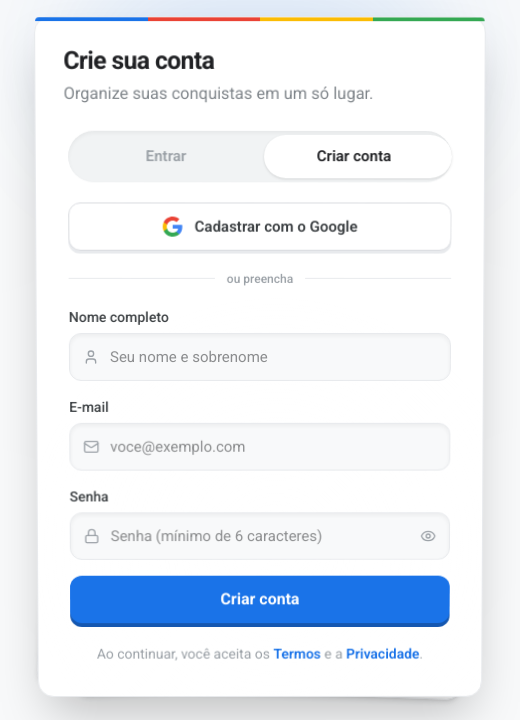
AuthScreen › signs up and shows the confirm-email screen when the password is not leaked
Type "  Ana   Souza " into the field labelled "Nome completo". click: (260, 357)
box: [69,333,451,381]
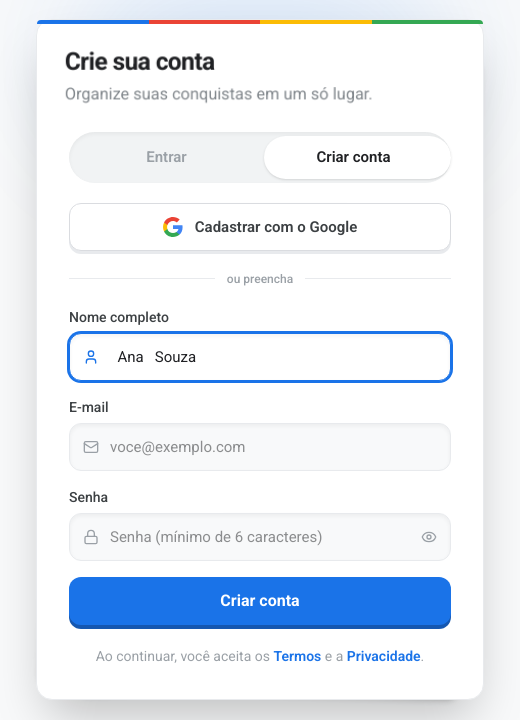
Type "nova@example.com" into the field labelled "E-mail". click: (260, 447)
box: [69,423,451,471]
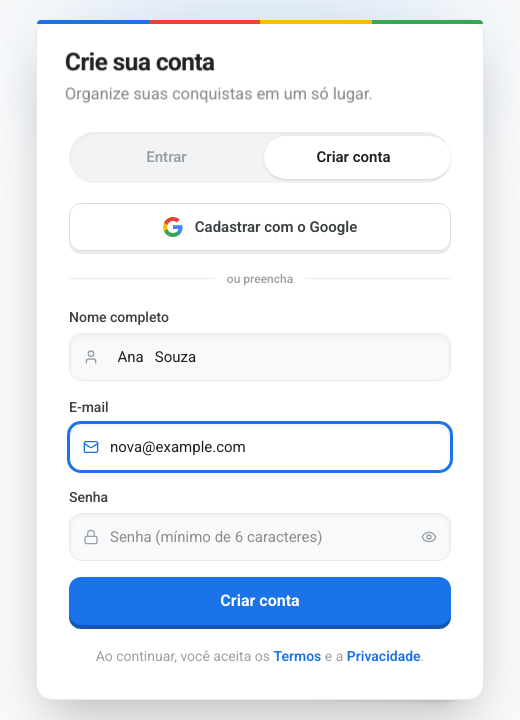
Type "senhaSegura1" into the password field labelled "Senha". click: (260, 537)
box: [69,513,451,561]
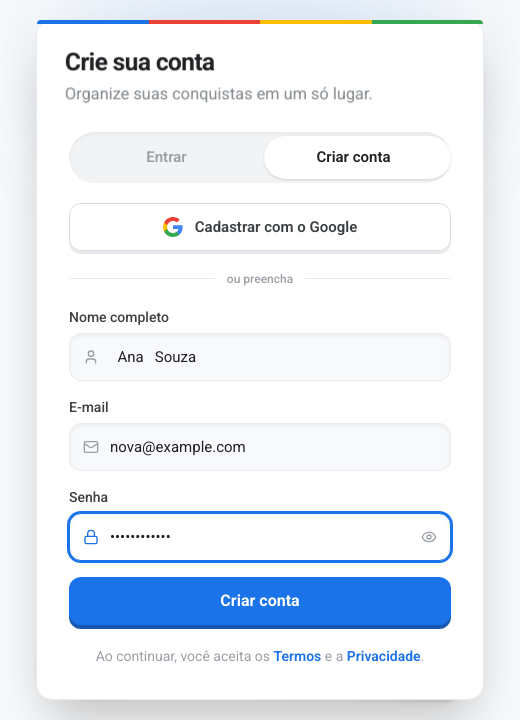
Click the submit button. click: click(260, 601)
box: [69,577,451,625]
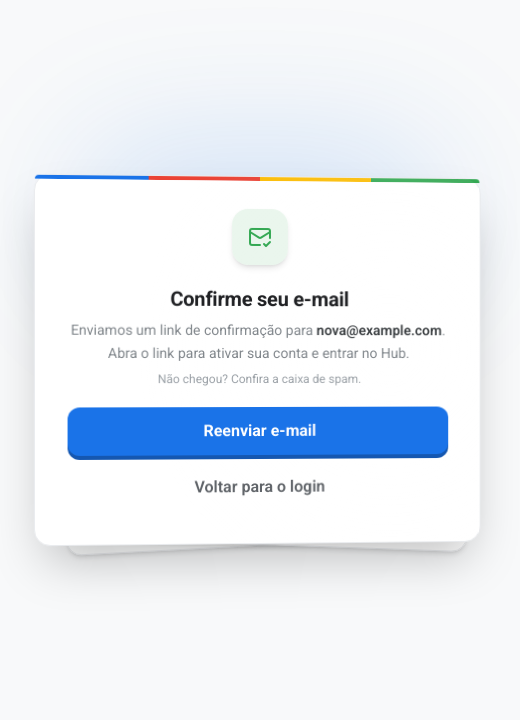
Result: the heading "Confirme seu e-mail" is shown at [170,287,349,312]
Result: the text "nova@example.com" is shown at [316,322,442,338]
